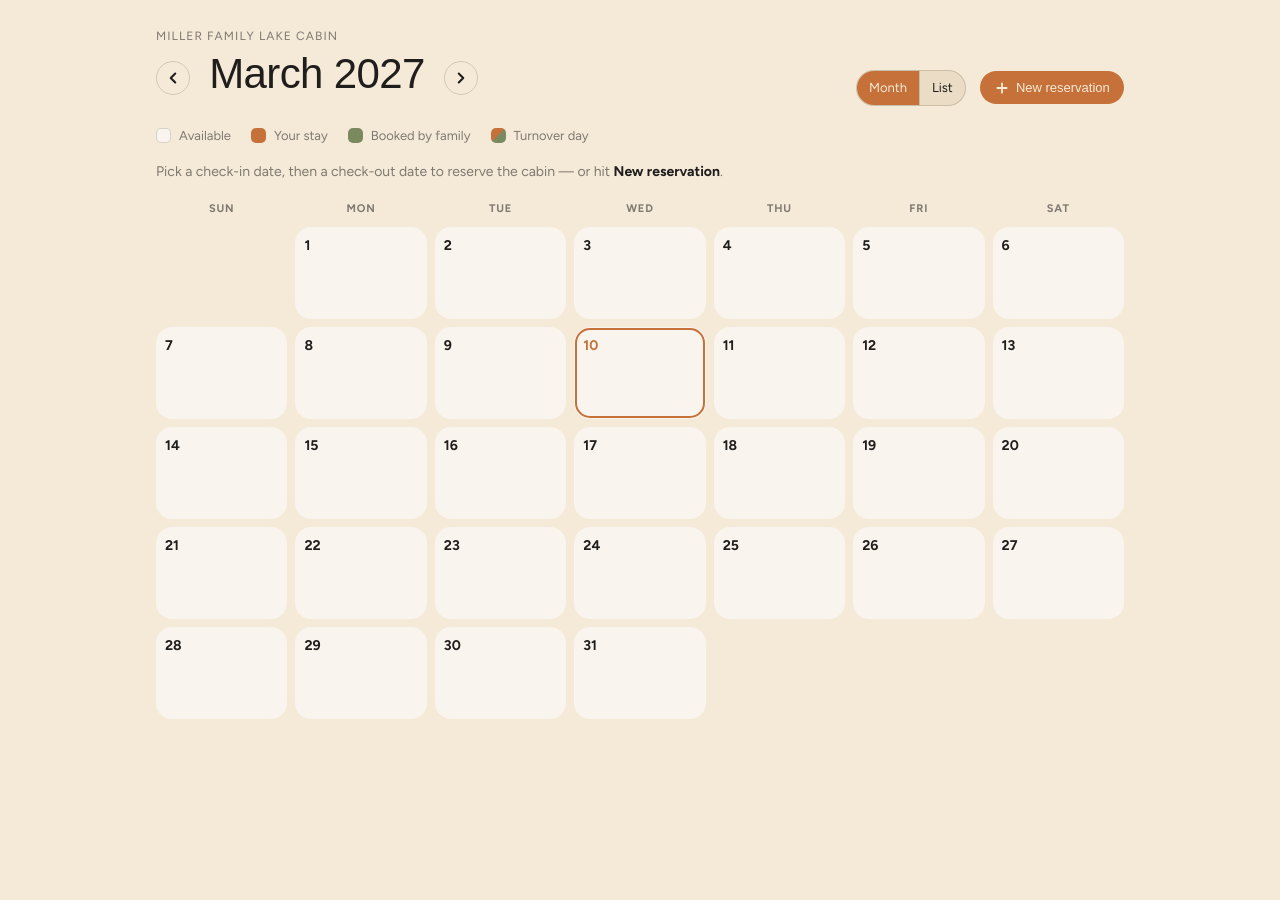
CAP-020 Book a stay › CAP-020 · Two clicks on the calendar choose check-in and check-out
Check: the heading "March 2027" is shown, box [202,50,432,97]
Step 1. Click the button named "Next month" → {"x": 461, "y": 78}, box [444,61,478,95]
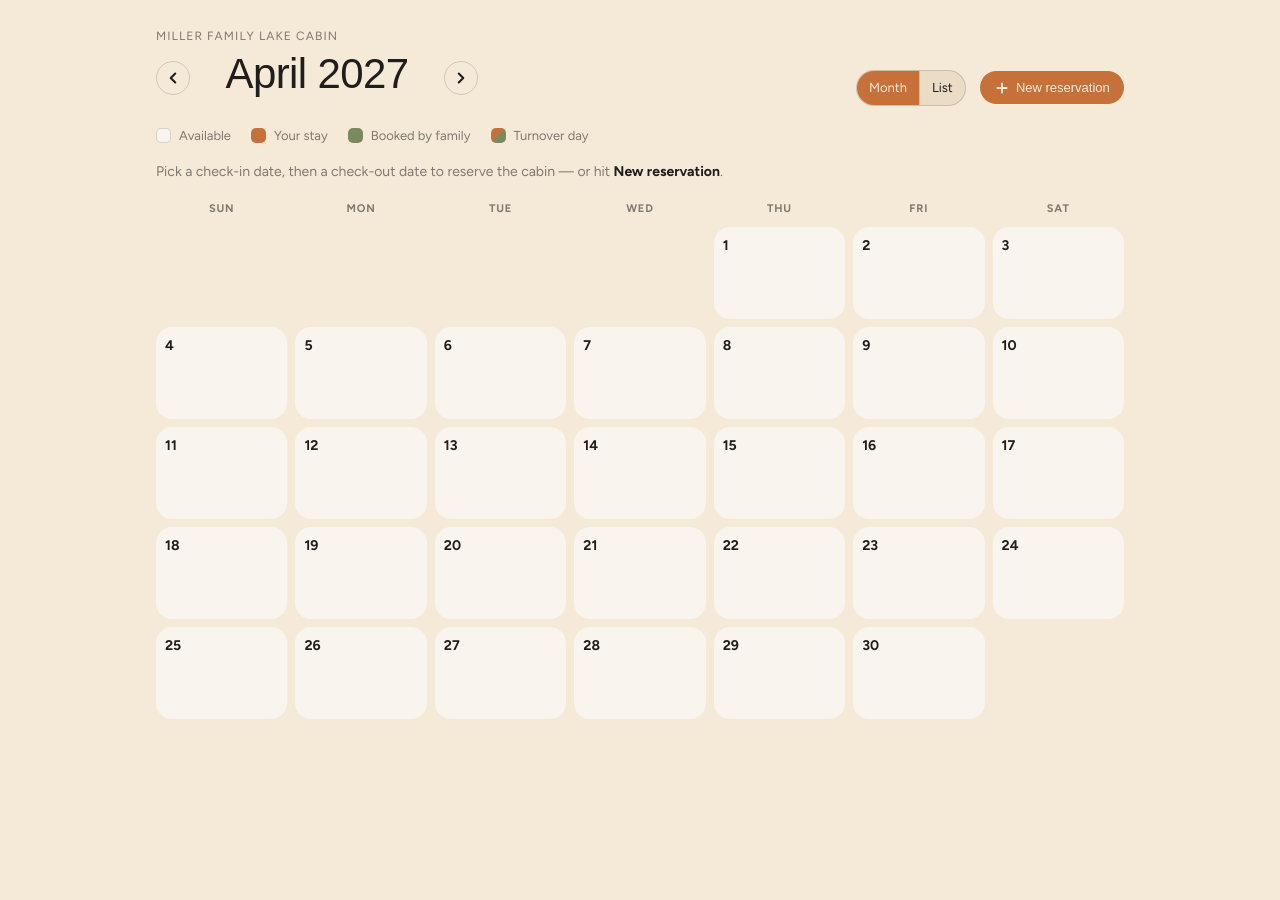
Step 2. Click the button named "Next month" → {"x": 461, "y": 78}, box [444,61,478,95]
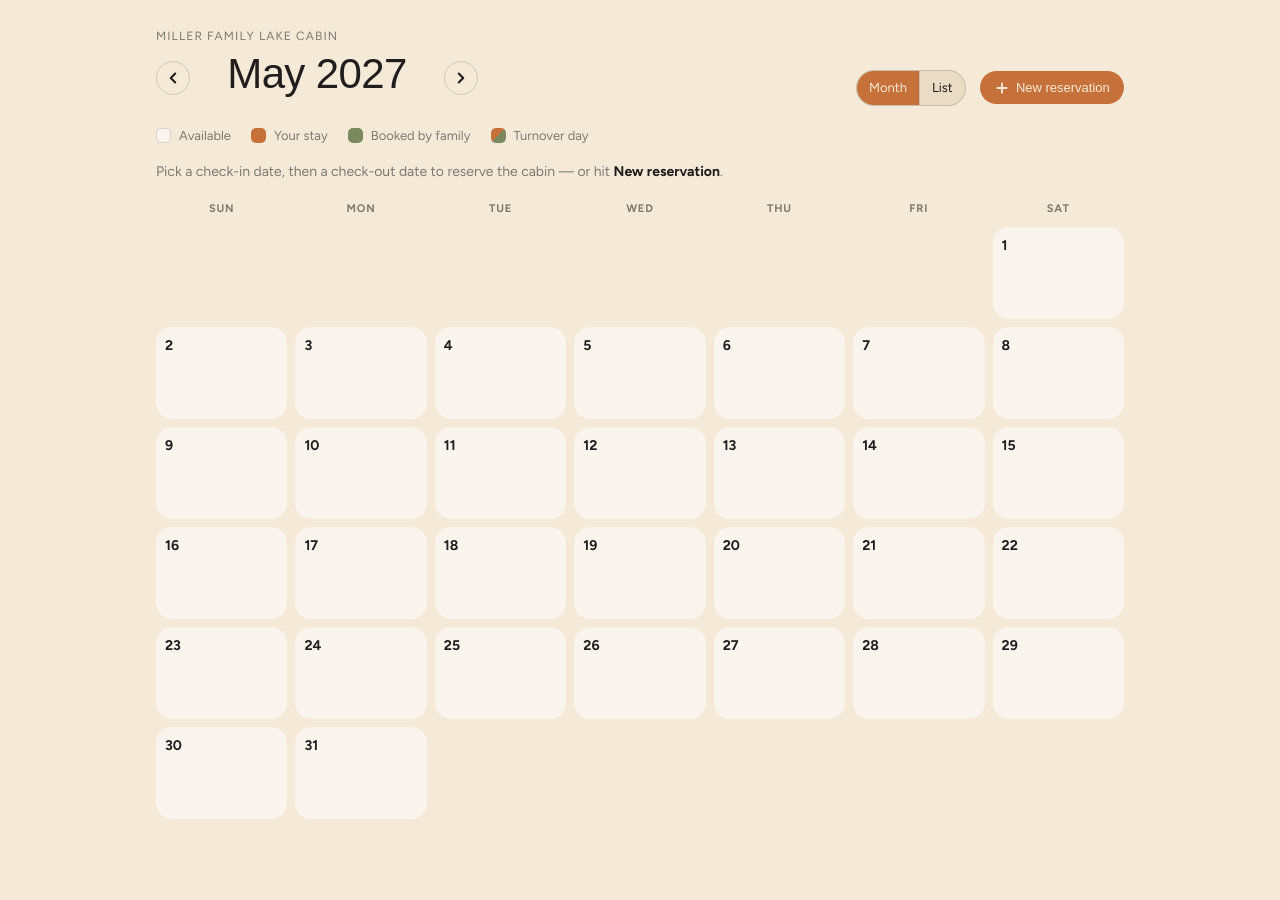
Step 3. Click the button named "Next month" → {"x": 461, "y": 78}, box [444,61,478,95]
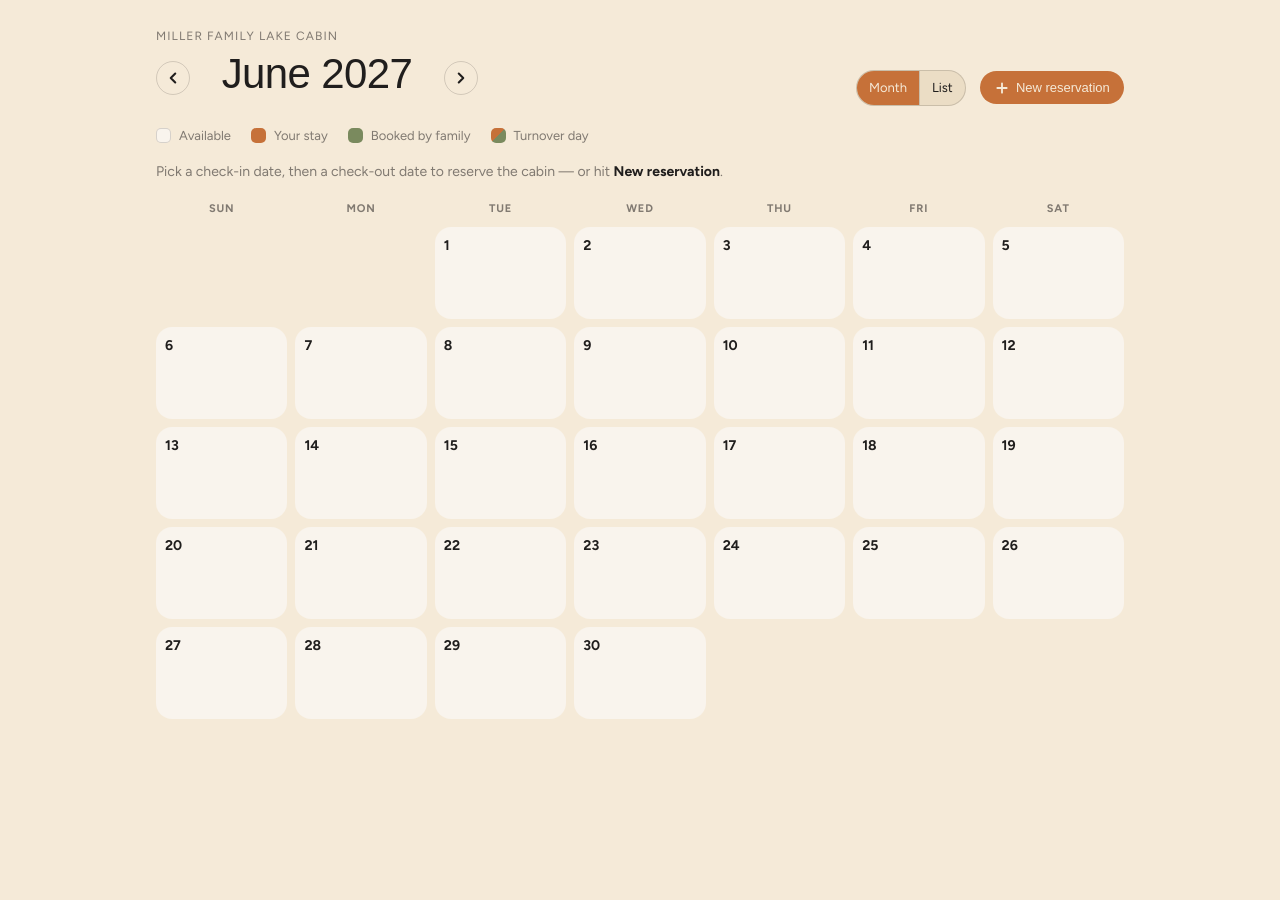
Step 4. Click the button named "Next month" → {"x": 461, "y": 78}, box [444,61,478,95]
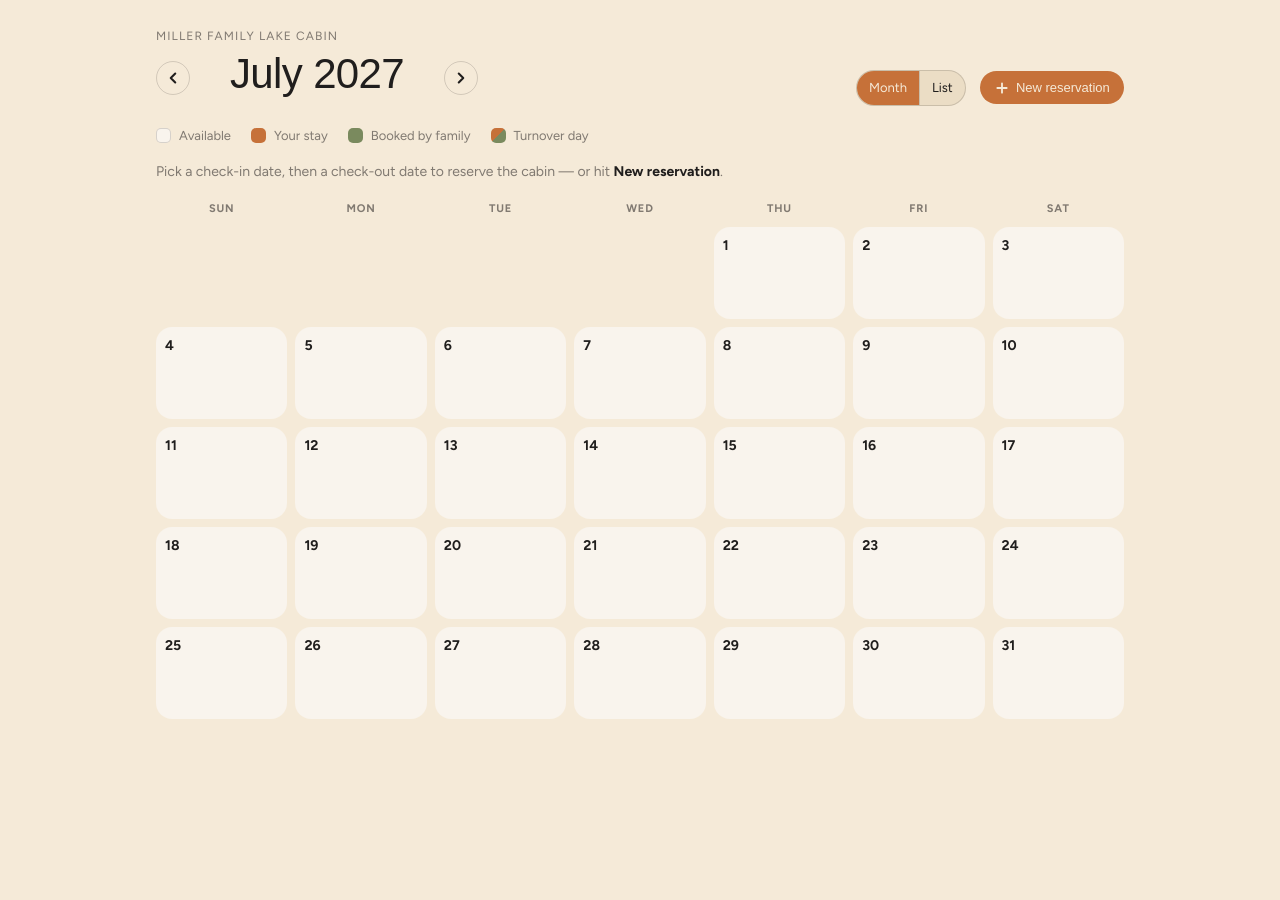
Step 5. Click the button with class "daycell" showing "10" → {"x": 1058, "y": 373}, box [993,327,1124,419]
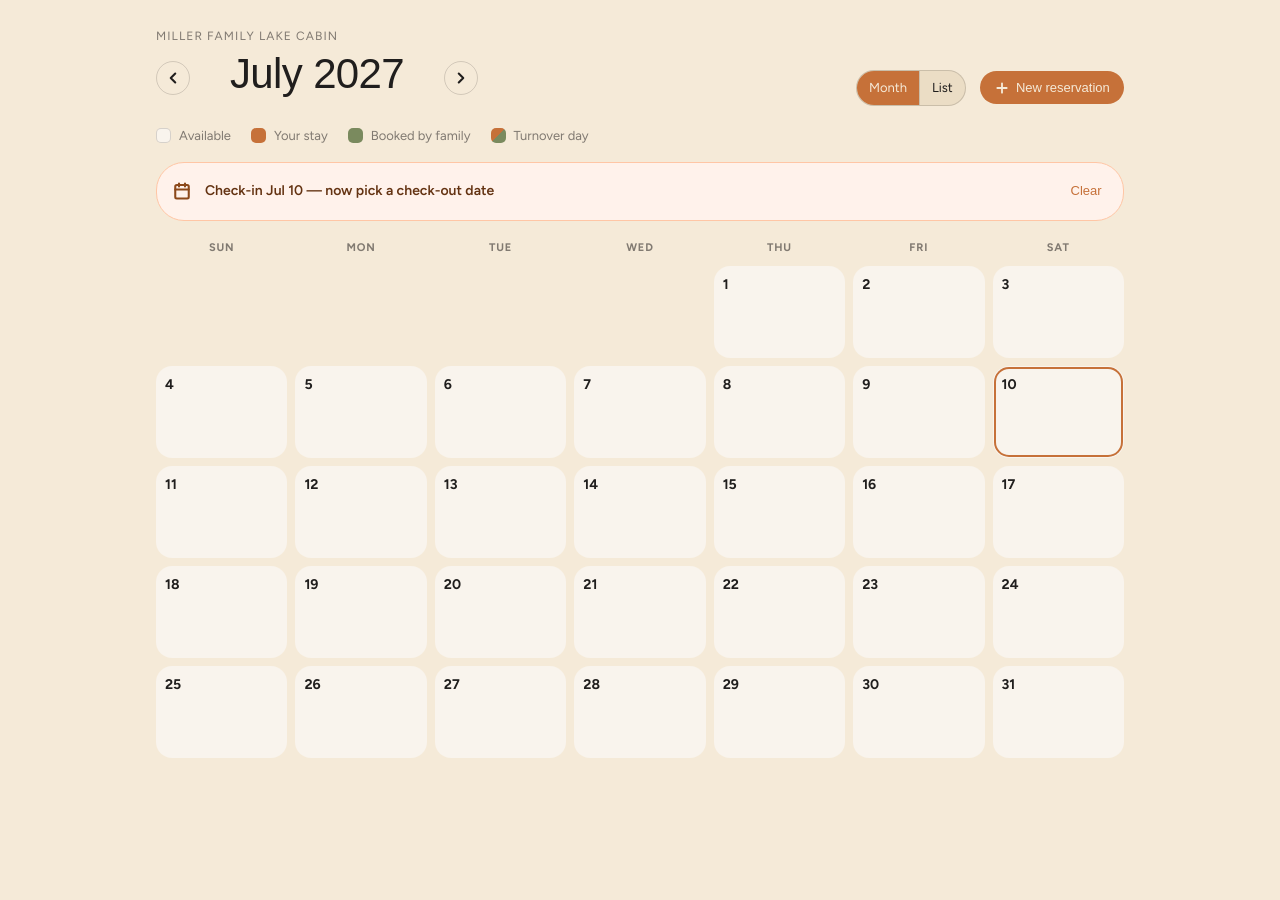
Check: the text "Check-in Jul 10 — now pick a check-out date" is shown, box [205,181,494,201]
Step 6. Click the button with class "daycell" showing "13" → {"x": 500, "y": 512}, box [435,466,566,558]
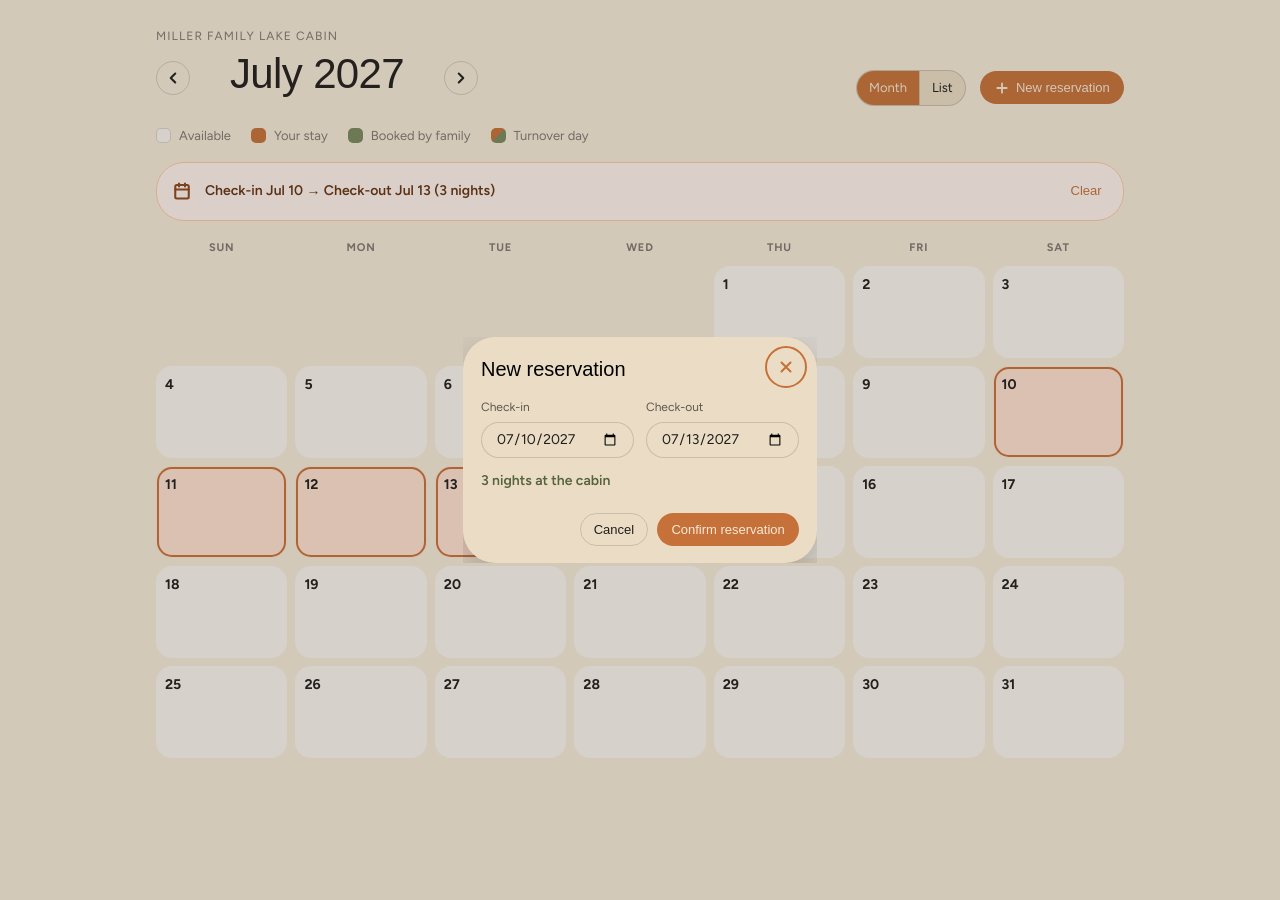
Check: the text "New reservation" is shown, box [481,354,626,385]
Check: the date field with id "booking-check-in" holds "2027-07-10", box [481,422,634,458]
Check: the date field with id "booking-check-out" holds "2027-07-13", box [646,422,799,458]
